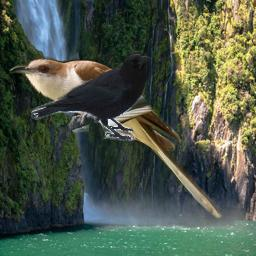Crow: (31, 53, 151, 141)
Cuckoo: (9, 56, 226, 222)
